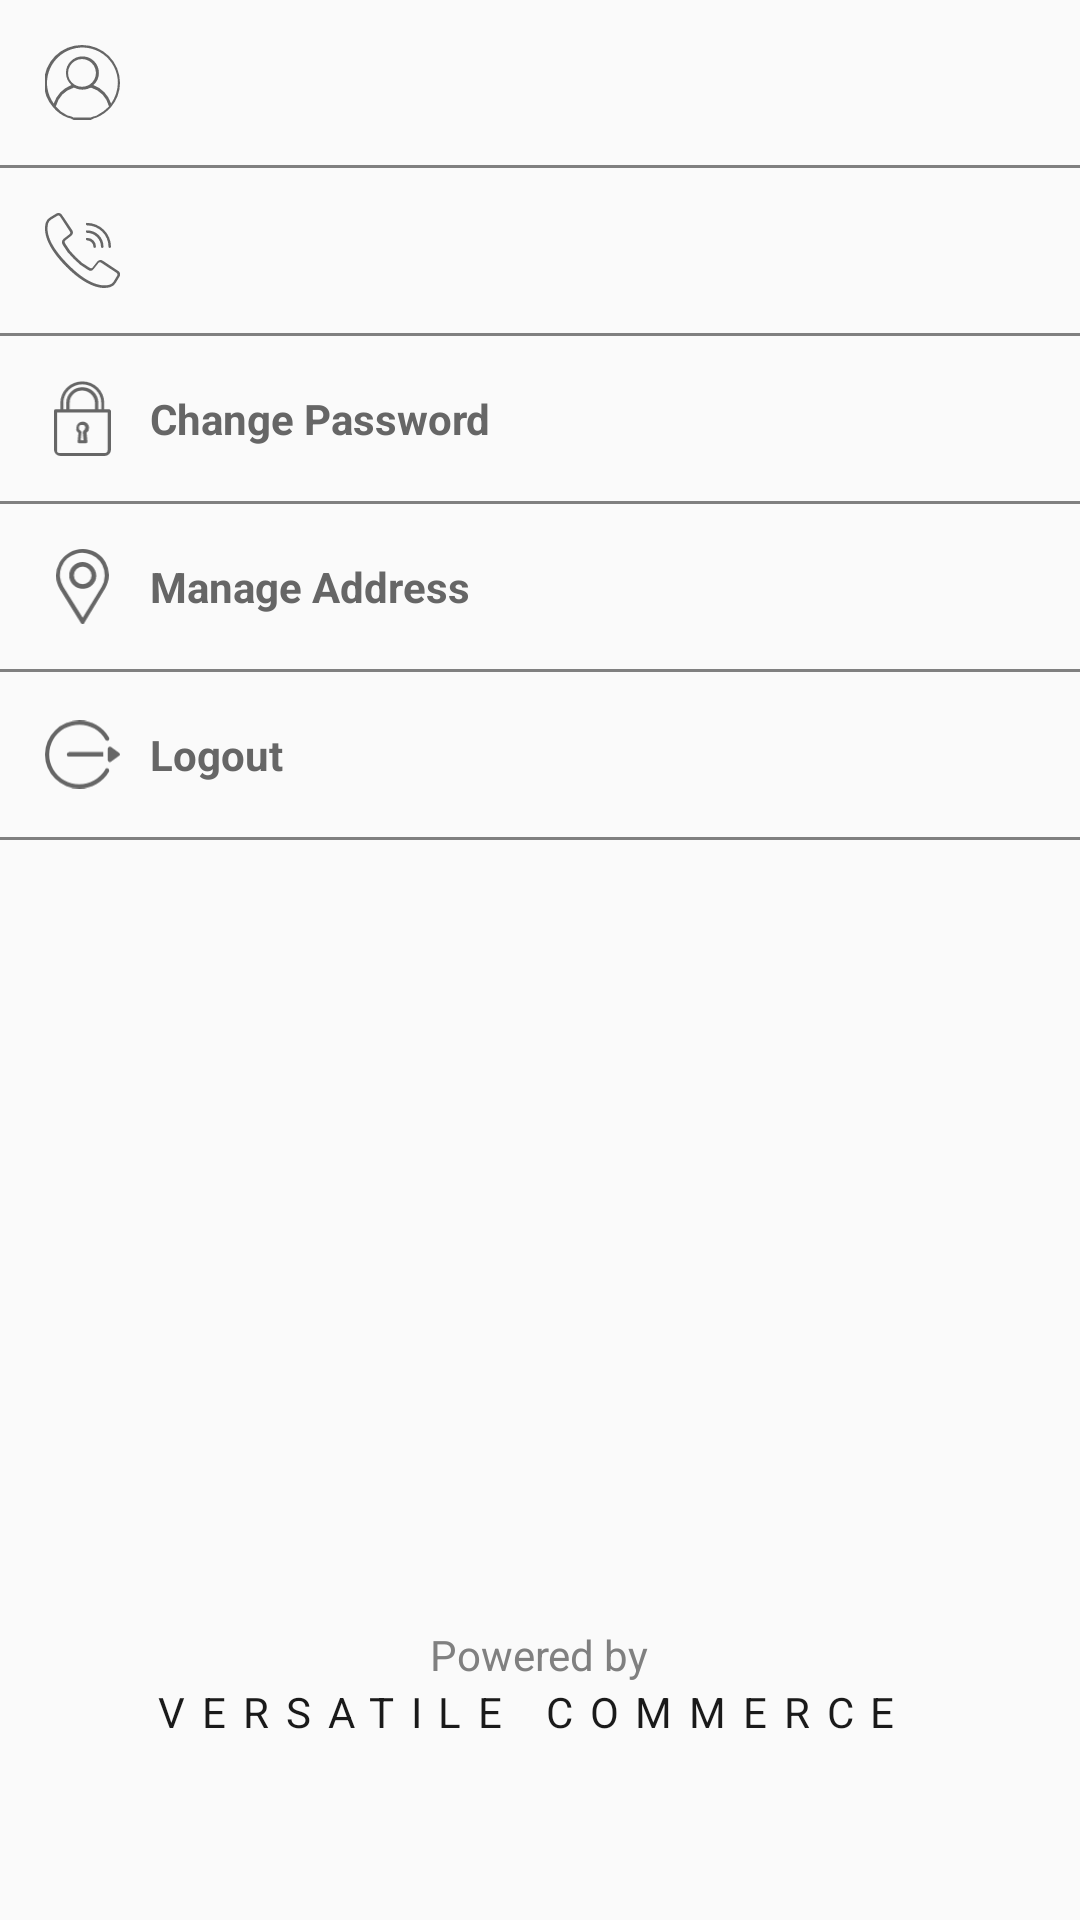

Where to tap for icons on this 1080w x 1920h app screen, as [x,y]:
number: [82,250]
